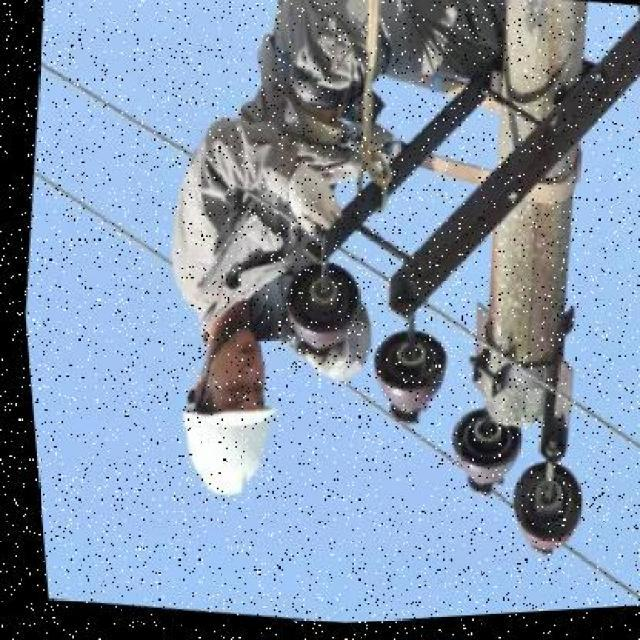helmet: (154, 392, 273, 502)
